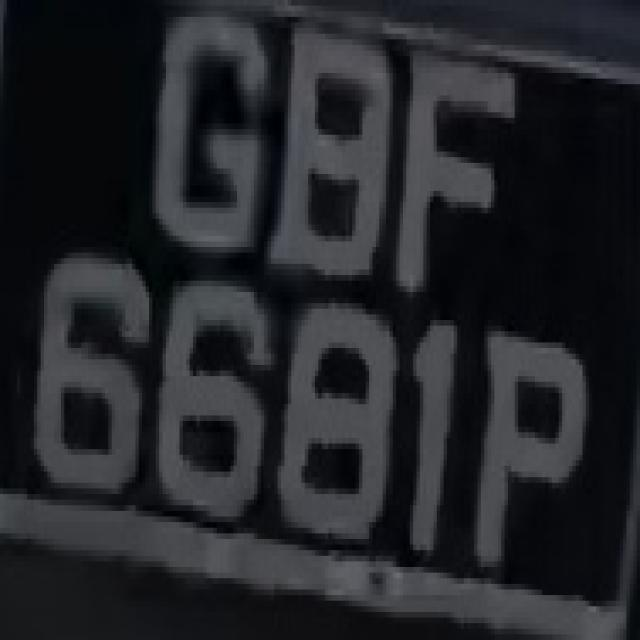1: (413, 298, 467, 556)
6: (149, 247, 271, 528), (27, 236, 146, 500)
8: (278, 264, 400, 544)
B: (274, 28, 396, 309)
F: (393, 45, 521, 309)
G: (152, 17, 278, 269)
P: (474, 303, 589, 584)
